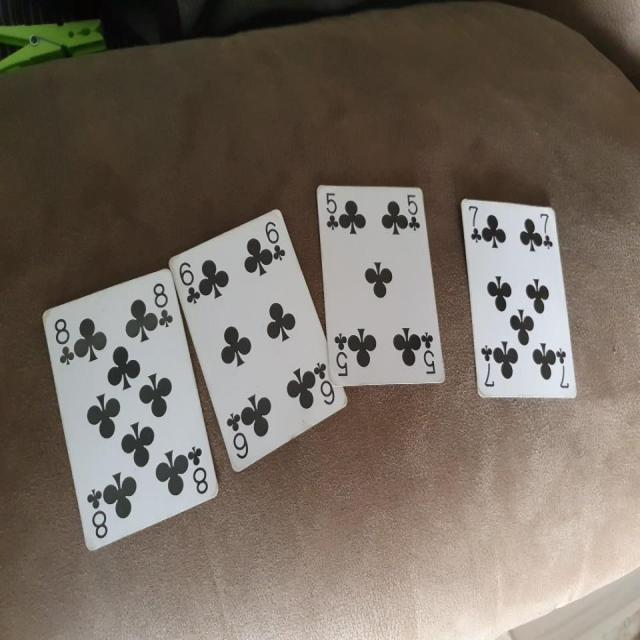5 Trefoils: (315, 178, 447, 389)
6 Trefoils: (165, 206, 348, 473)
7 Trefoils: (459, 196, 578, 402)
8 Trefoils: (41, 267, 220, 552)
